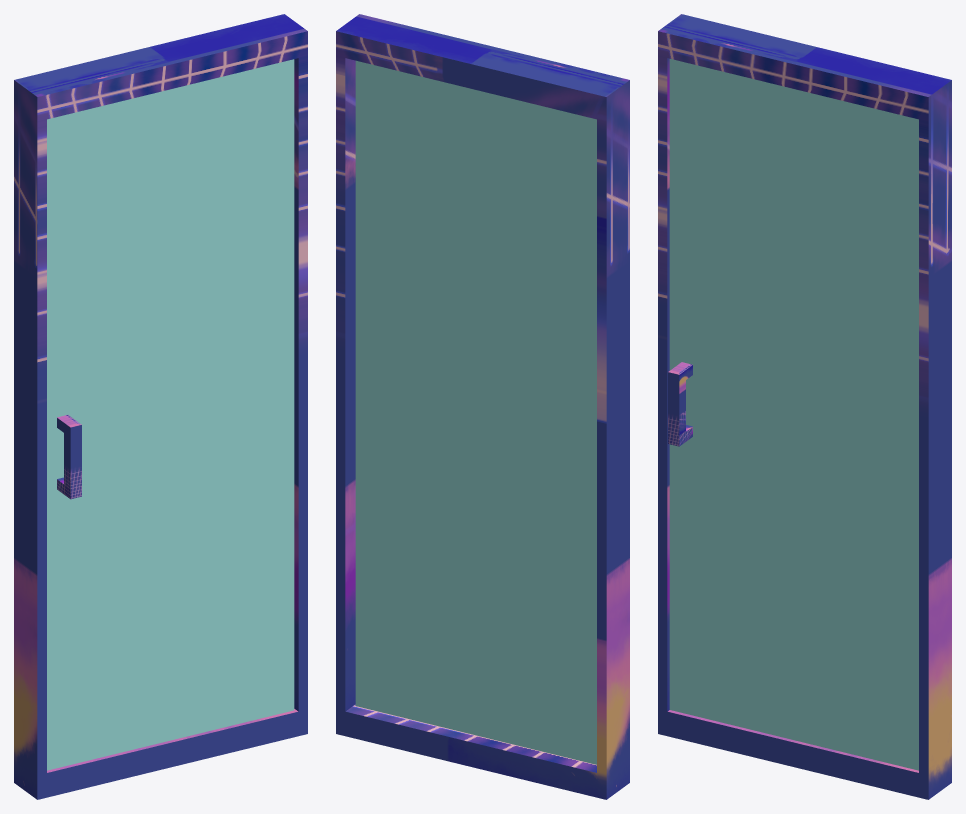
The model's file is MOD_GDD door.fbx.
The picture shows the model from 3 angles, left to right: view 1: azimuth 30°, elevation 25°; view 2: azimuth 150°, elevation 25°; view 3: azimuth 330°, elevation 25°; orthographic projection.
Parts seen in each view (by area): view 1: Lab_Door, Door_Frame, Door_Handle; view 2: Lab_Door, Door_Frame; view 3: Lab_Door, Door_Frame, Door_Handle.
Boxes of the visible parts, x1=… form: Lab_Door: x1=47, y1=59, x2=294, y2=770; Door_Frame: x1=14, y1=14, x2=307, y2=799; Door_Handle: x1=57, y1=415, x2=81, y2=499; Lab_Door: x1=355, y1=60, x2=596, y2=764; Door_Frame: x1=336, y1=14, x2=629, y2=799; Lab_Door: x1=669, y1=59, x2=918, y2=770; Door_Frame: x1=658, y1=14, x2=951, y2=799; Door_Handle: x1=668, y1=362, x2=692, y2=446.
Size of the model in its own units: 121 by 300 by 27.08.
